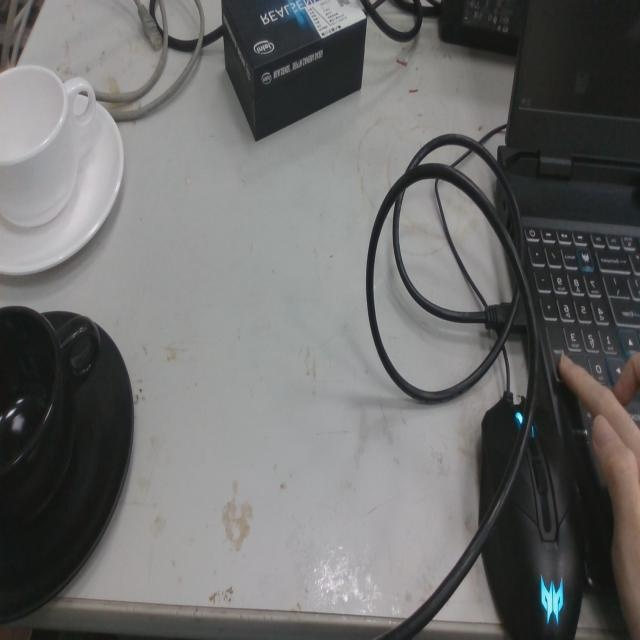black: (0, 300, 138, 631)
white: (0, 58, 127, 282)
